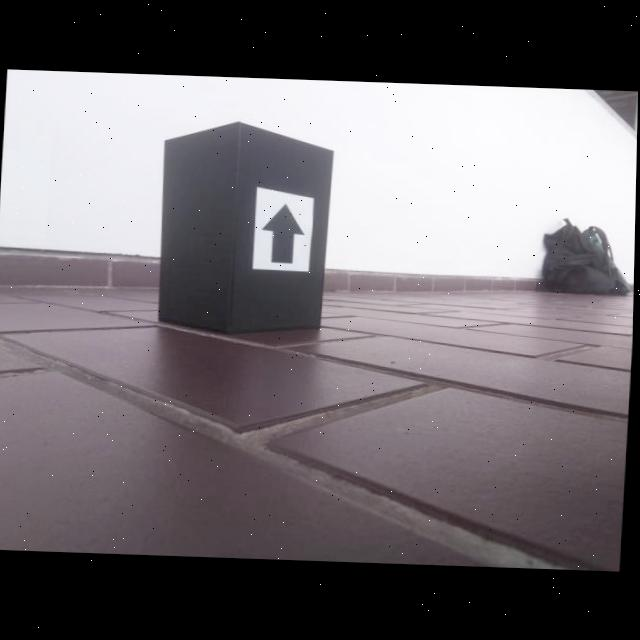UP: (261, 202, 308, 264)
